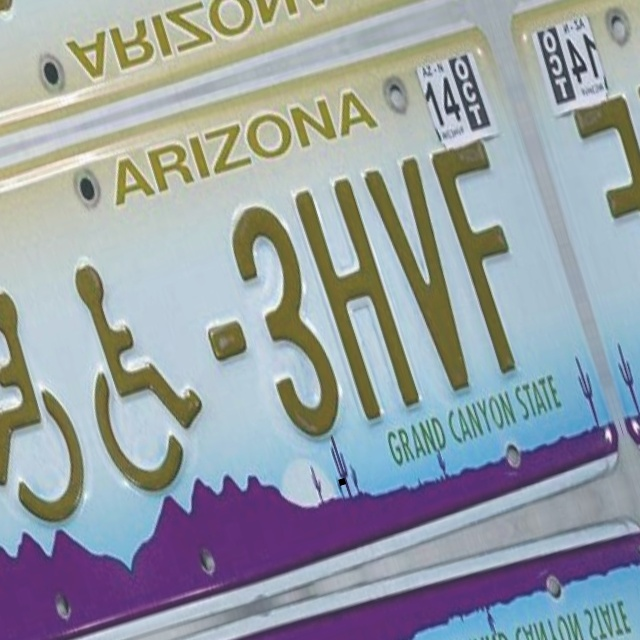ISA: (49, 236, 229, 506), (0, 276, 100, 546), (0, 0, 80, 27)
